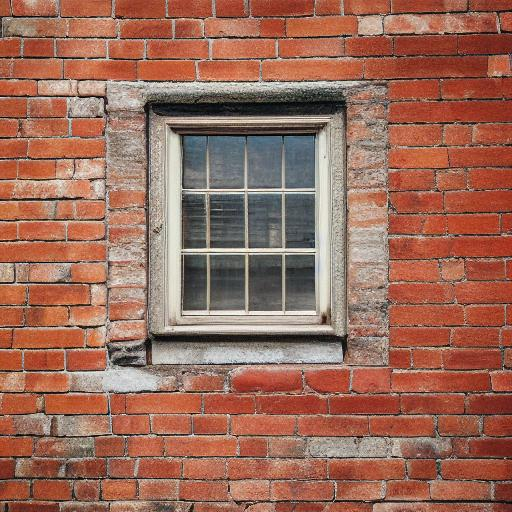Window: (105, 80, 392, 367)
